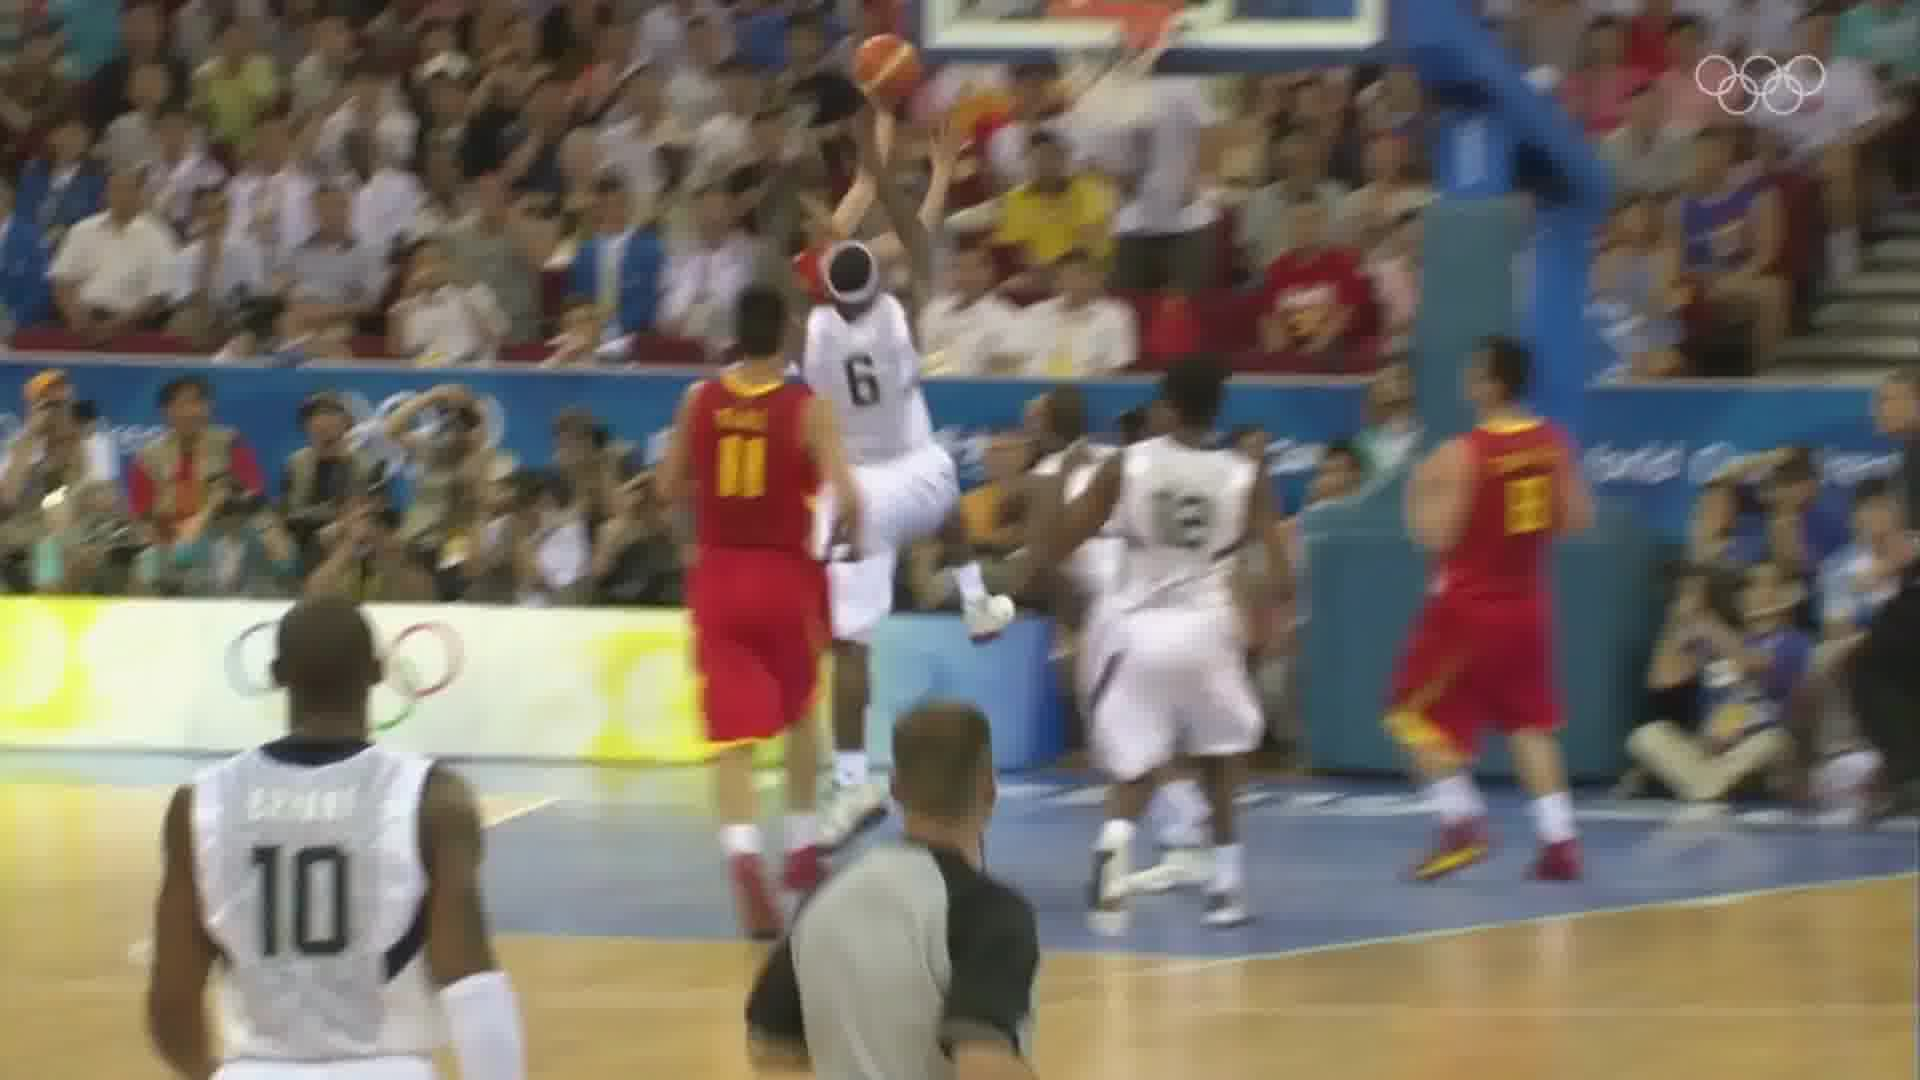ball: (845, 26, 924, 113)
net: (1033, 1, 1180, 138)
